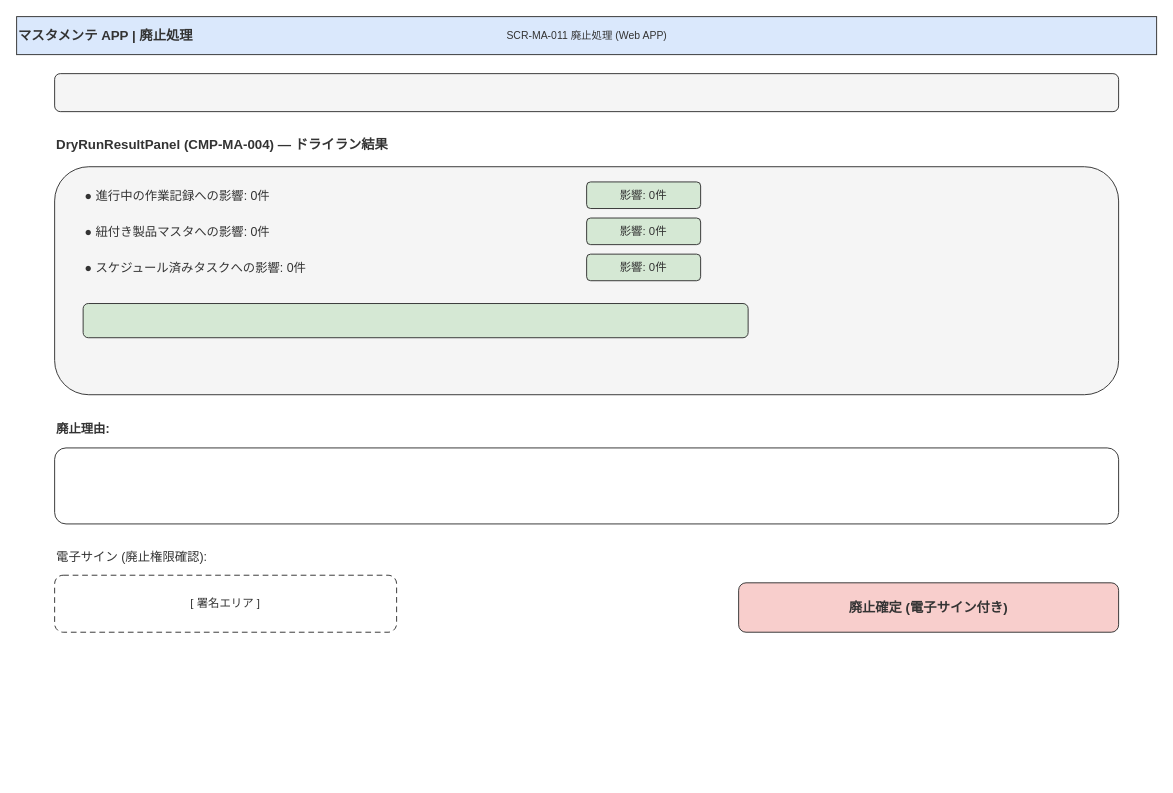
Some shapes in this 1173 by 793 pixel diagram are drawn without their labels. Here are the shapes that lost their labels. From the top down, the centre of each, then its label:
At (x=586, y=92): "廃止対象: SOP-001 組立工程A (v2.0) | 現在の状態: 公開中".
At (x=415, y=320): "ドライランサマリー: 廃止可能 — 全チェック OK".
At (x=586, y=485): "工程改訂により新 SOP-002 に移行のため廃止。".
